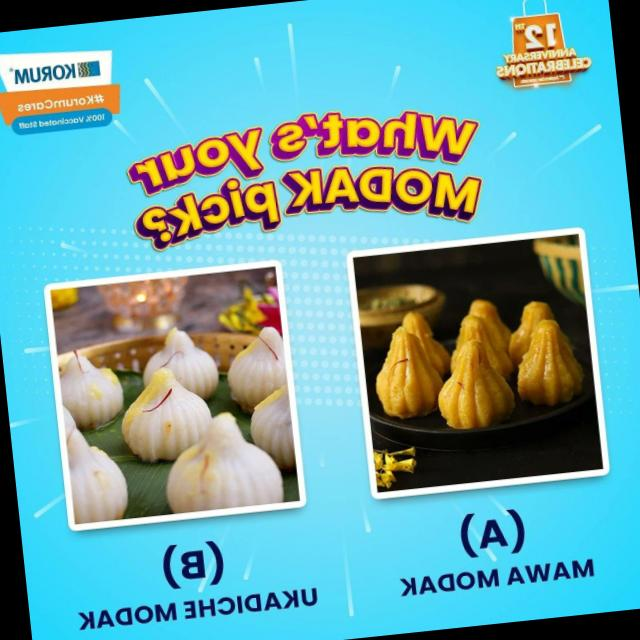modak: (74, 336, 270, 510), (373, 305, 578, 438)
